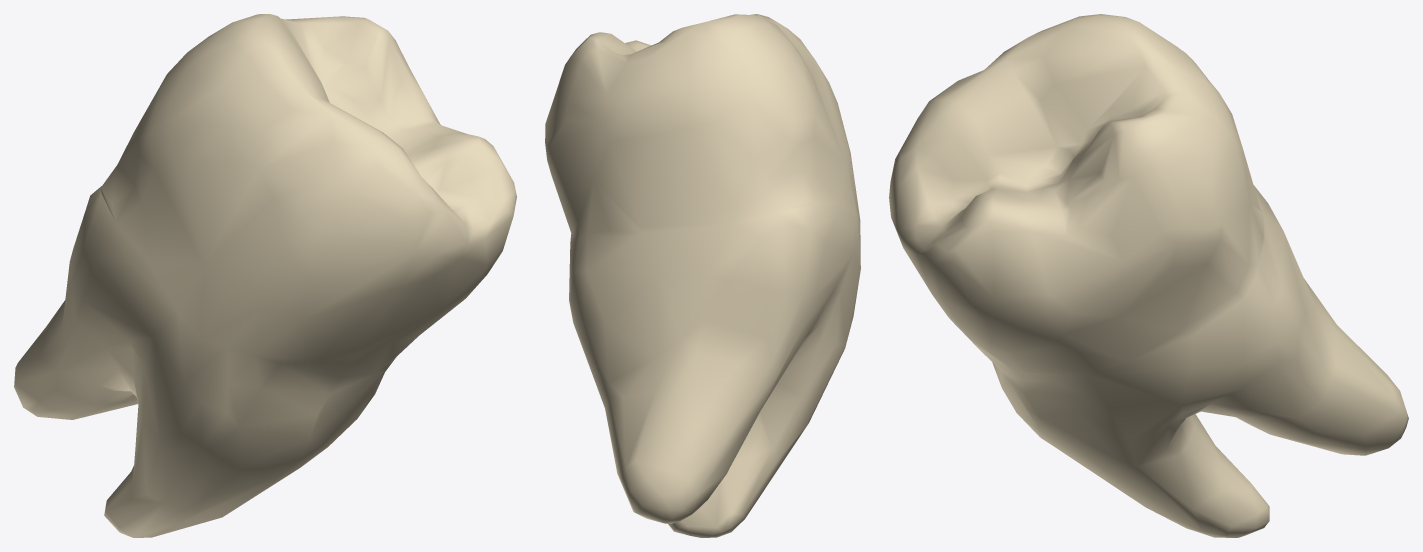
File: esqueleto-lower-second-molar-tooth-r.glb
3 views of the same model, side by side, from view 1: azimuth 30°, elevation 25°; view 2: azimuth 150°, elevation 25°; view 3: azimuth 270°, elevation 25° (orthographic). The views are drawn at different scales.
Visible parts, largest first — view 1: Lower second molar tooth.r; view 2: Lower second molar tooth.r; view 3: Lower second molar tooth.r.
Part boxes in pixels (<box>): Lower second molar tooth.r: <box>14,14,516,537</box>; Lower second molar tooth.r: <box>545,14,860,537</box>; Lower second molar tooth.r: <box>889,14,1408,537</box>.
Bounding box in the file's own units: 0.0118 × 0.0182 × 0.0161.
